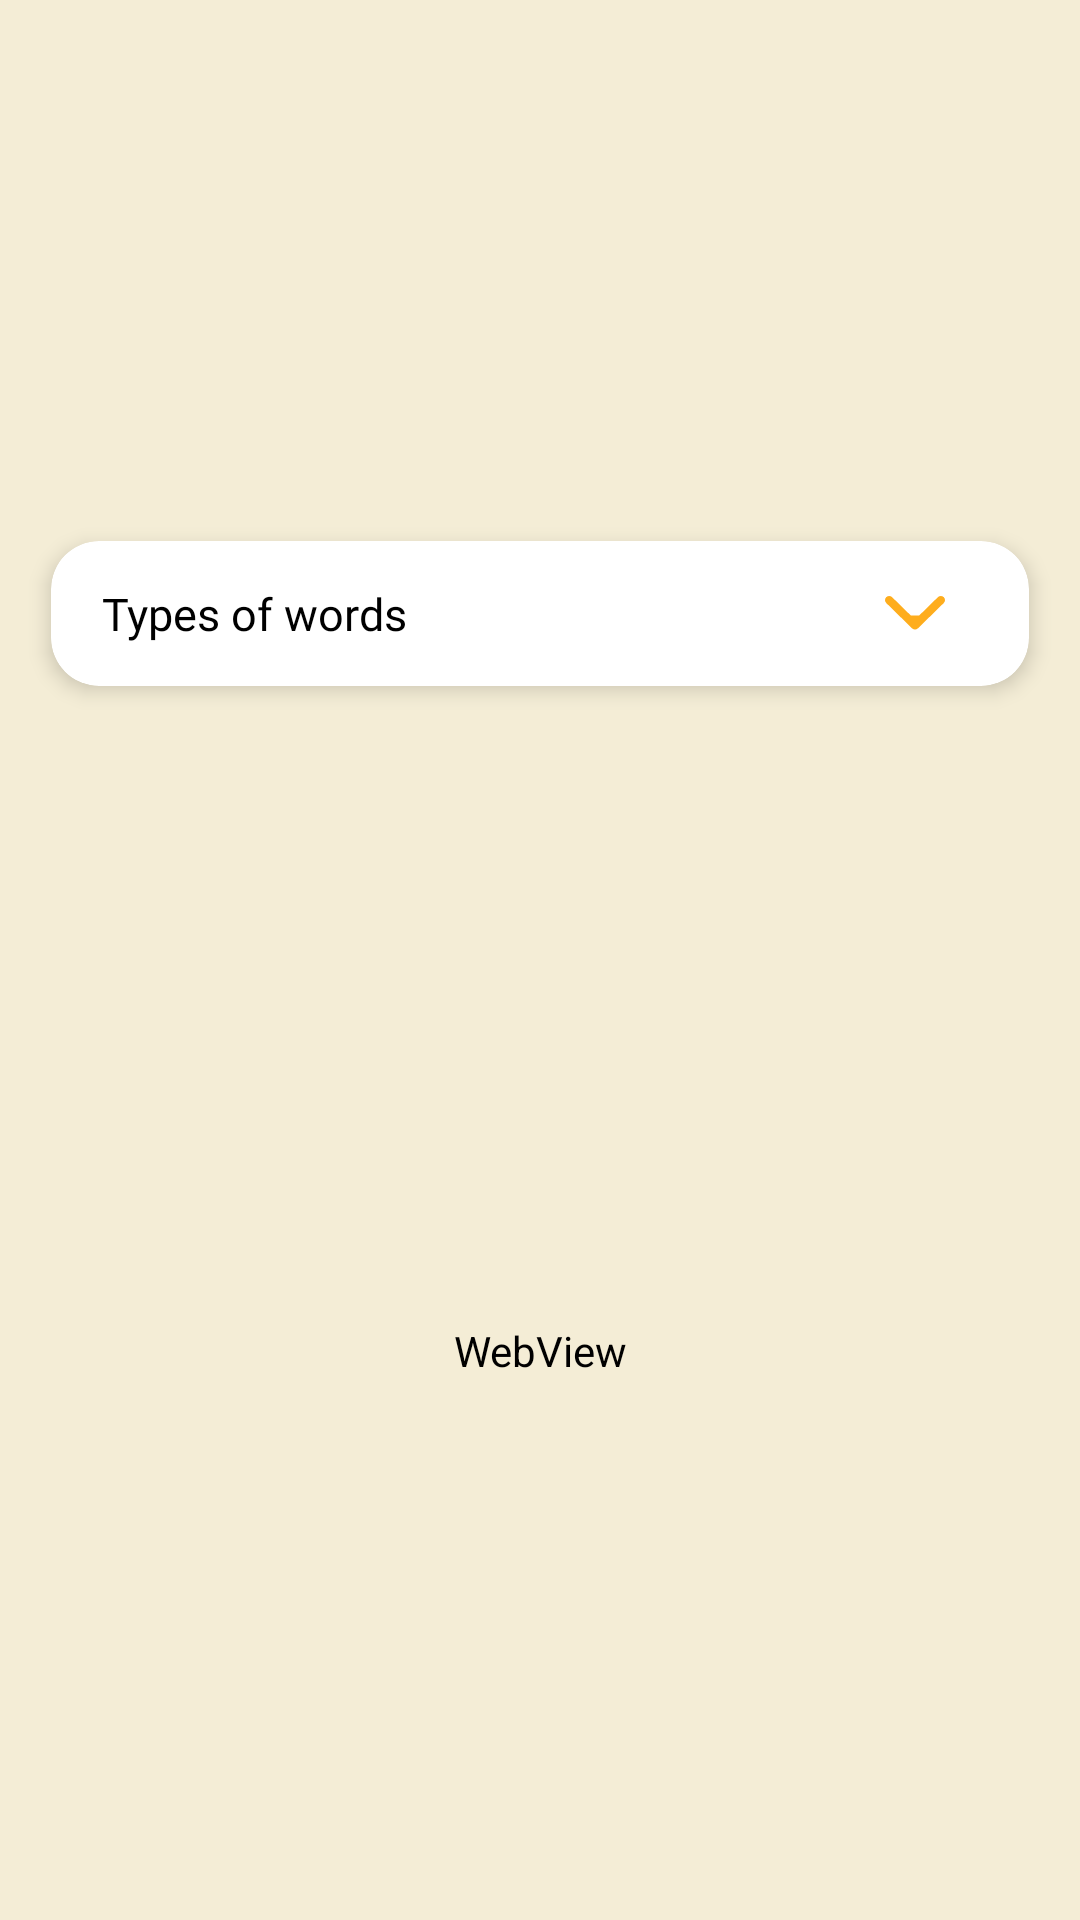

Icon click points for this 1080px x 1920px phone screenshot, format (x=x, y=y):
arrow down: (x=915, y=613)
